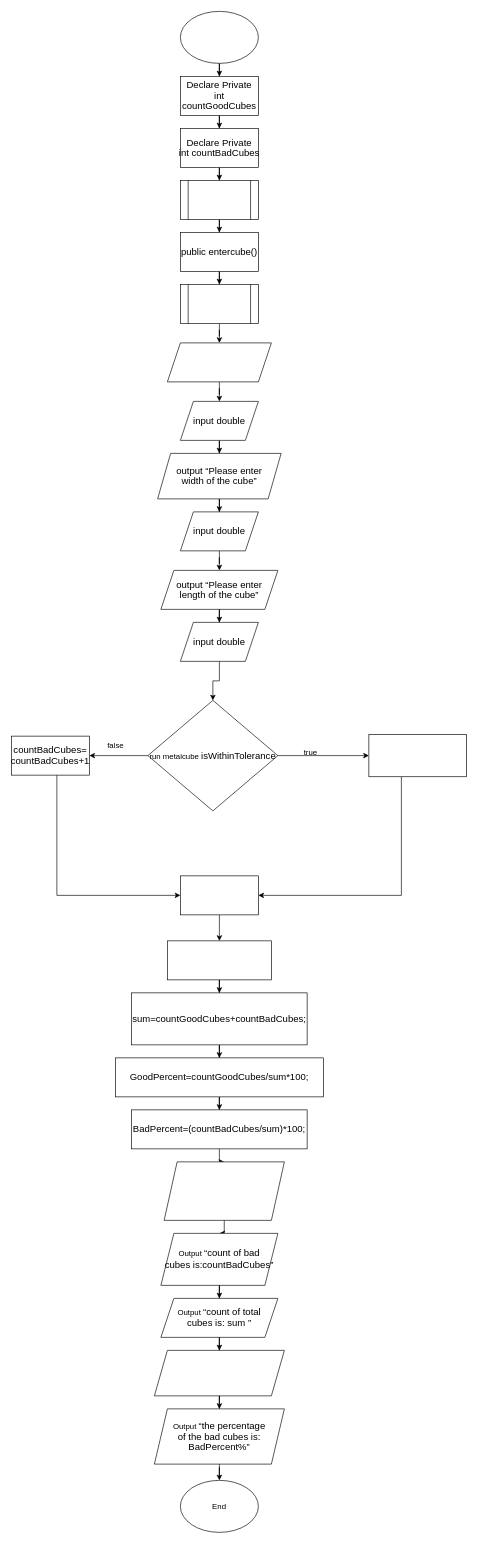
The diagram is 478 pixels wide and 1544 high, and some of its shapes have lost their labels. The shapes that lost their labels are listed below. From the top down, each one's box as (x1, y1, x2, y2) in pixels, then its label:
(180, 11, 258, 63): Start MetalCubeAnalyzer
(180, 180, 258, 219): Declare class UserInput input;
(180, 284, 258, 323): Declare class metalcube cube;
(167, 342, 271, 382): Output “Please enter hight of the cube”
(368, 734, 466, 777): countGoodCubes= countGoodCubes+1;
(180, 875, 258, 915): printReport()
(167, 940, 271, 980): Declare double sum, GoodPercent, BadPercent
(163, 1161, 284, 1220): Output “count of good cubes is:countGoodCubes”
(154, 1350, 284, 1396): Output “the percentage of the good cubes is: GoodPercent %”
